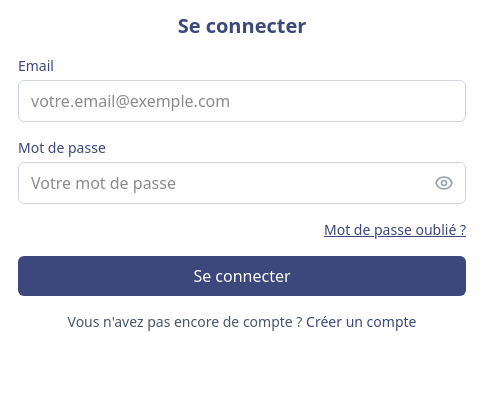
Scenario: Login › shows validation errors when fields are empty
This screenshot has width=485, height=396.
Click the button "Se connecter".
click(242, 276)  # box x1=18 y1=256 x2=466 y2=296
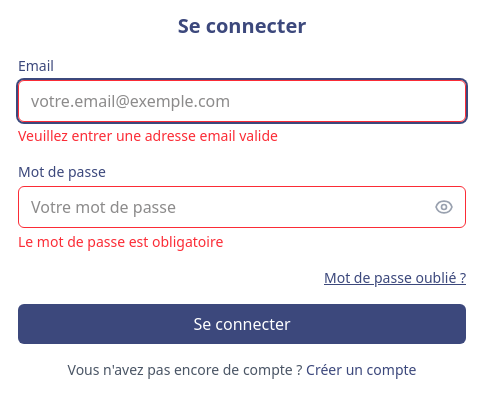
Result: the text "Veuillez entrer une adresse email valide" is shown at x1=18 y1=126 x2=278 y2=145
Result: the text "Le mot de passe est obligatoire" is shown at x1=18 y1=232 x2=223 y2=251
